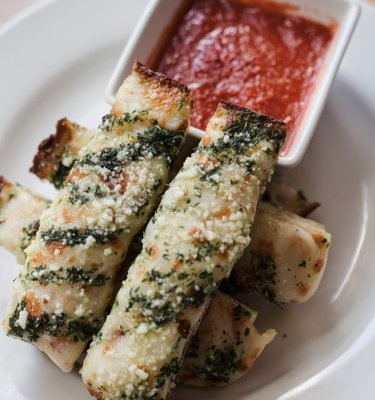sandwich: (5, 112, 185, 388)
